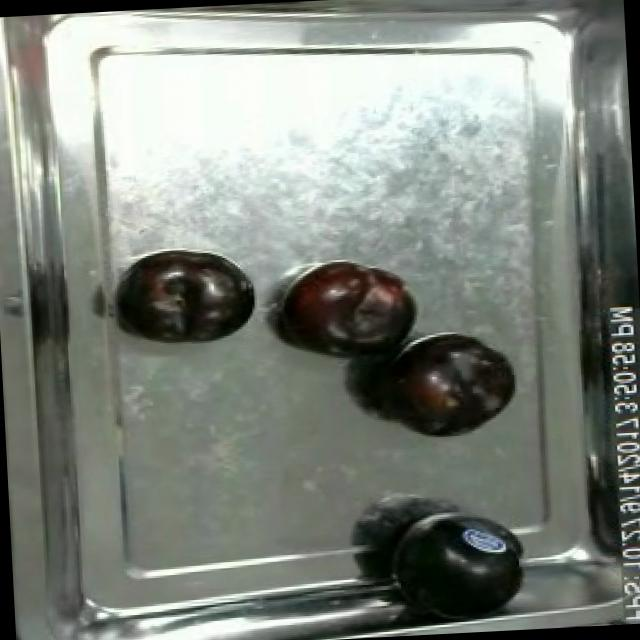Fruit: (380, 499, 538, 625), (269, 256, 426, 364), (378, 334, 522, 447), (113, 245, 264, 351)
